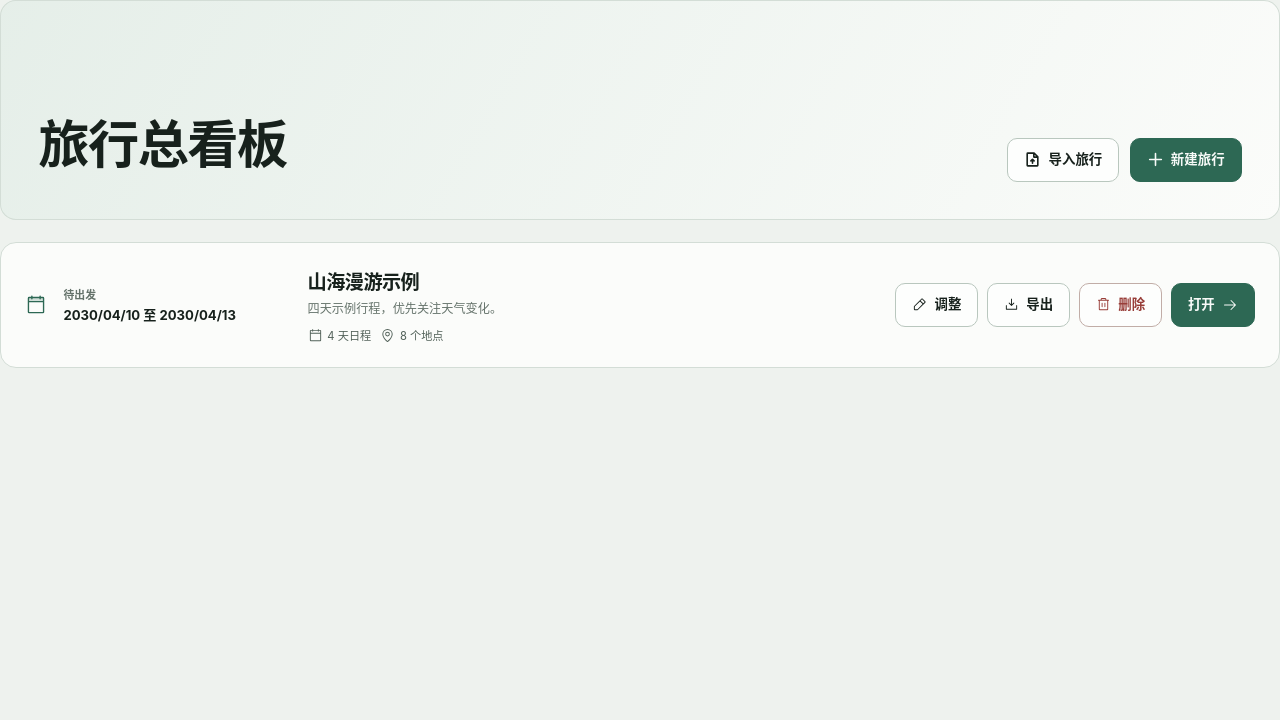
Test case: 旅行说明编辑 › 在卡片展示说明，并在恢复原值后清除未保存状态
Check: the text "四天示例行程，优先关注天气变化。" is shown, box [308,301,502,316]
Click the button "调整": coordinates (937, 305) [895,283,978,327]
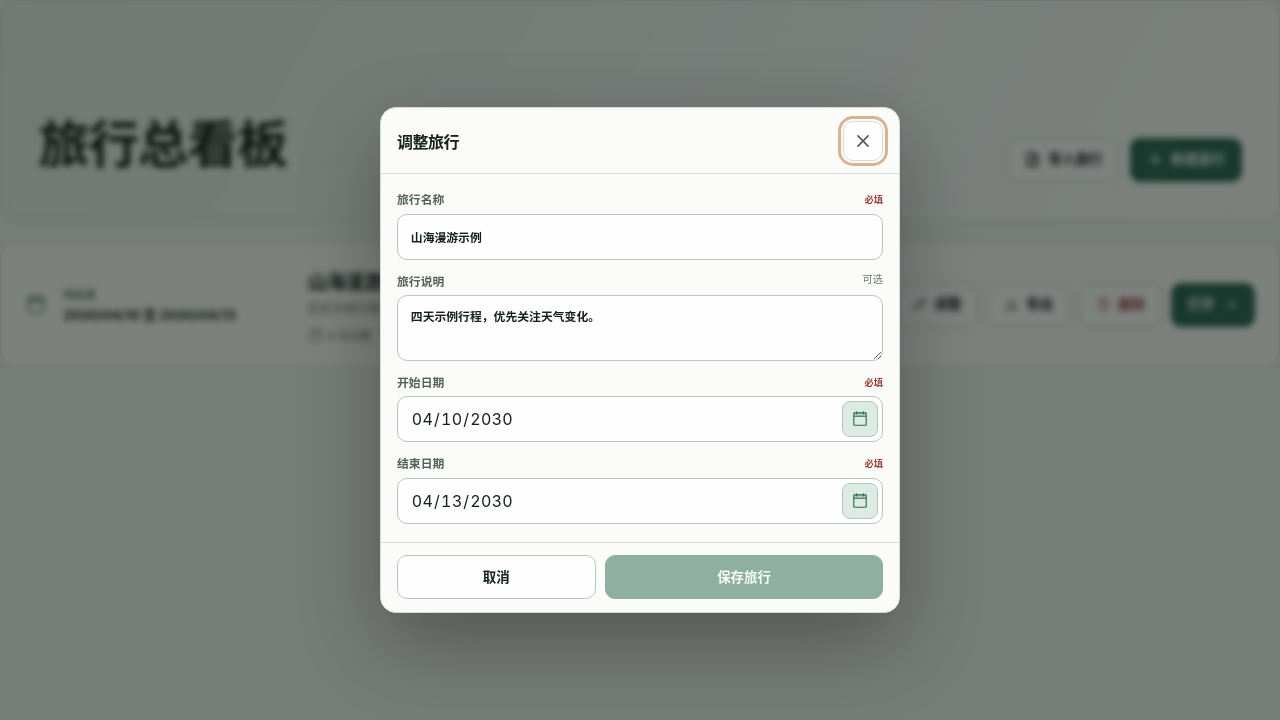
Check: the text box labelled "旅行说明 可选" holds "四天示例行程，优先关注天气变化。"
Check: the button "保存旅行" is disabled, box [605,555,883,599]
Clear the text box labelled "旅行说明 可选": coordinates (640, 328) [397,295,883,361]
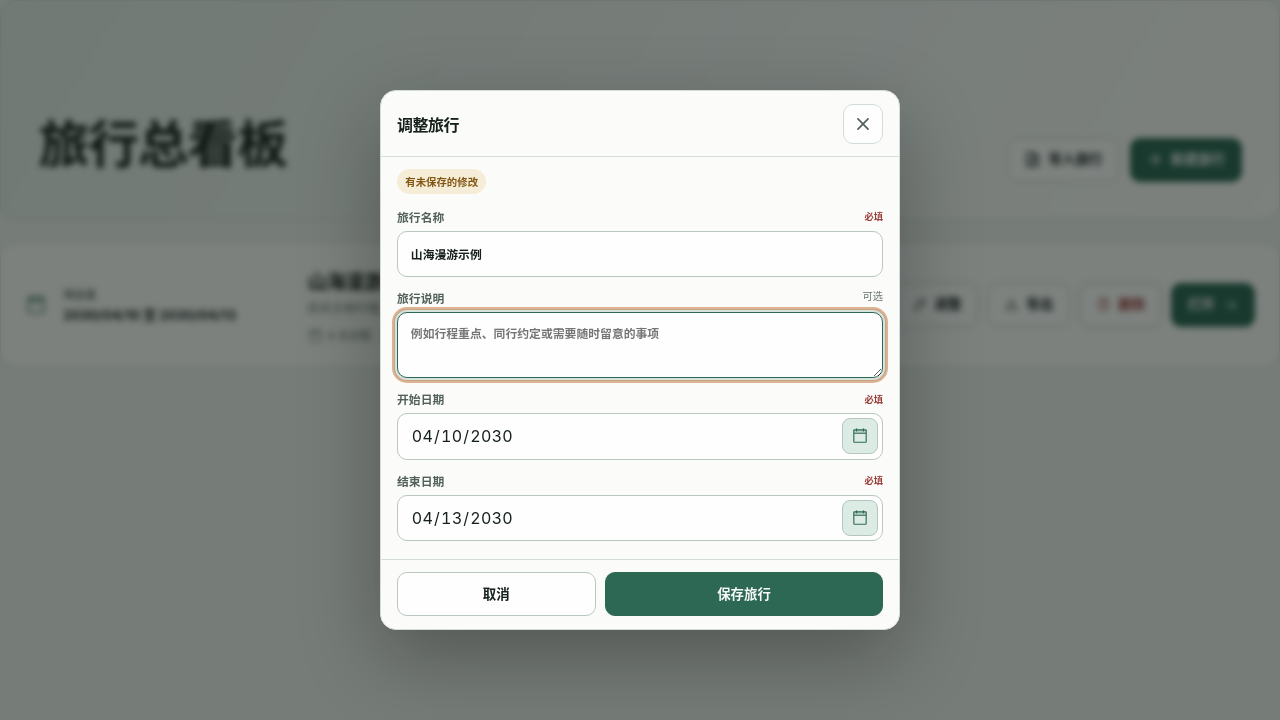
Check: the message reads "有未保存的修改", box [405,176,478,189]
Check: the button "保存旅行" is enabled, box [605,572,883,616]
In the text box labelled "旅行说明 可选": coordinates (640, 345) [397,312,883,378], type "四天示例行程，优先关注天气变化。"
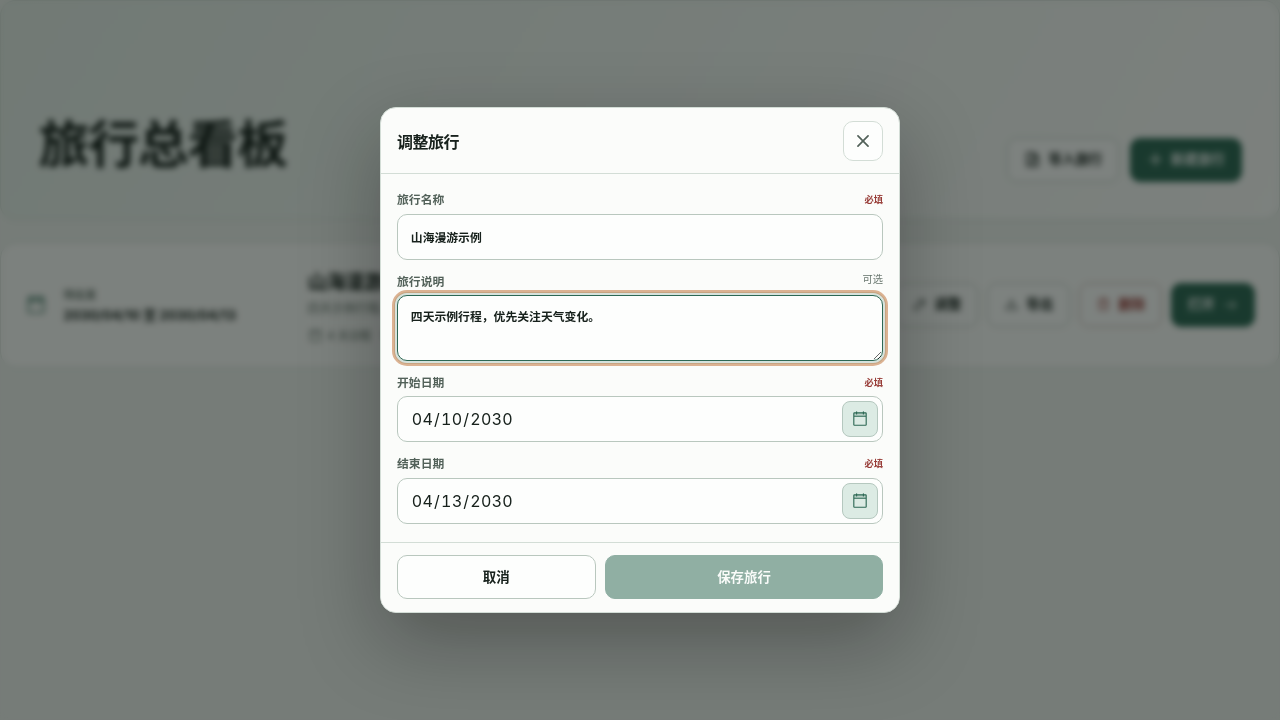
Check: the message "有未保存的修改" is gone
Check: the button "保存旅行" is disabled, box [605,555,883,599]
